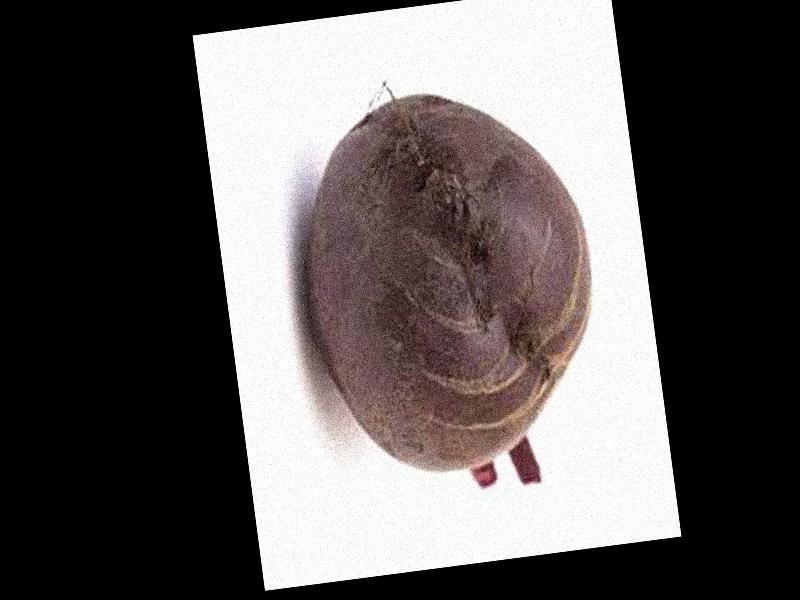Beet: (279, 74, 619, 506)
